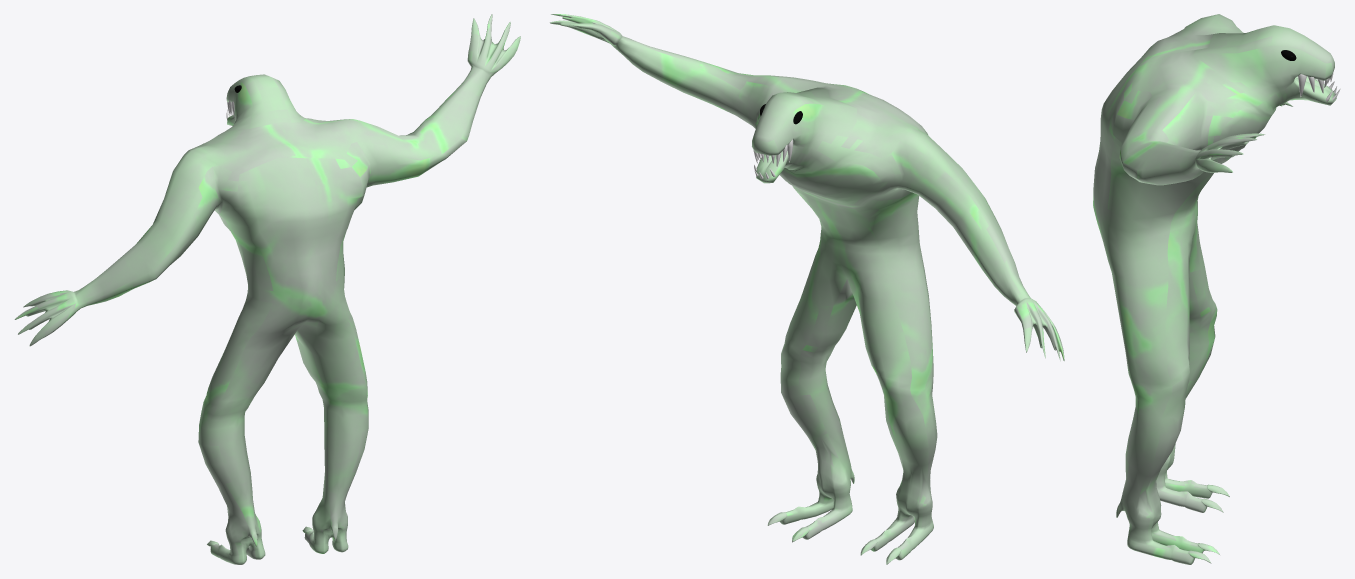
Rendered from Berserkeraranar.0028.obj.
The picture shows the model from 3 angles, left to right: view 1: azimuth 30°, elevation 25°; view 2: azimuth 150°, elevation 25°; view 3: azimuth 270°, elevation 25°; orthographic projection. The views are drawn at different scales.
Visible parts, largest first — view 1: polySurface27; view 2: polySurface27; view 3: polySurface27.
Part boxes in pixels (<box>): polySurface27: <box>14,14,520,564</box>; polySurface27: <box>550,14,1064,564</box>; polySurface27: <box>1093,14,1340,564</box>.
Bounding box in the file's own units: 26.68 × 23.78 × 9.98.
Materials: 1 (1 with a texture image).
